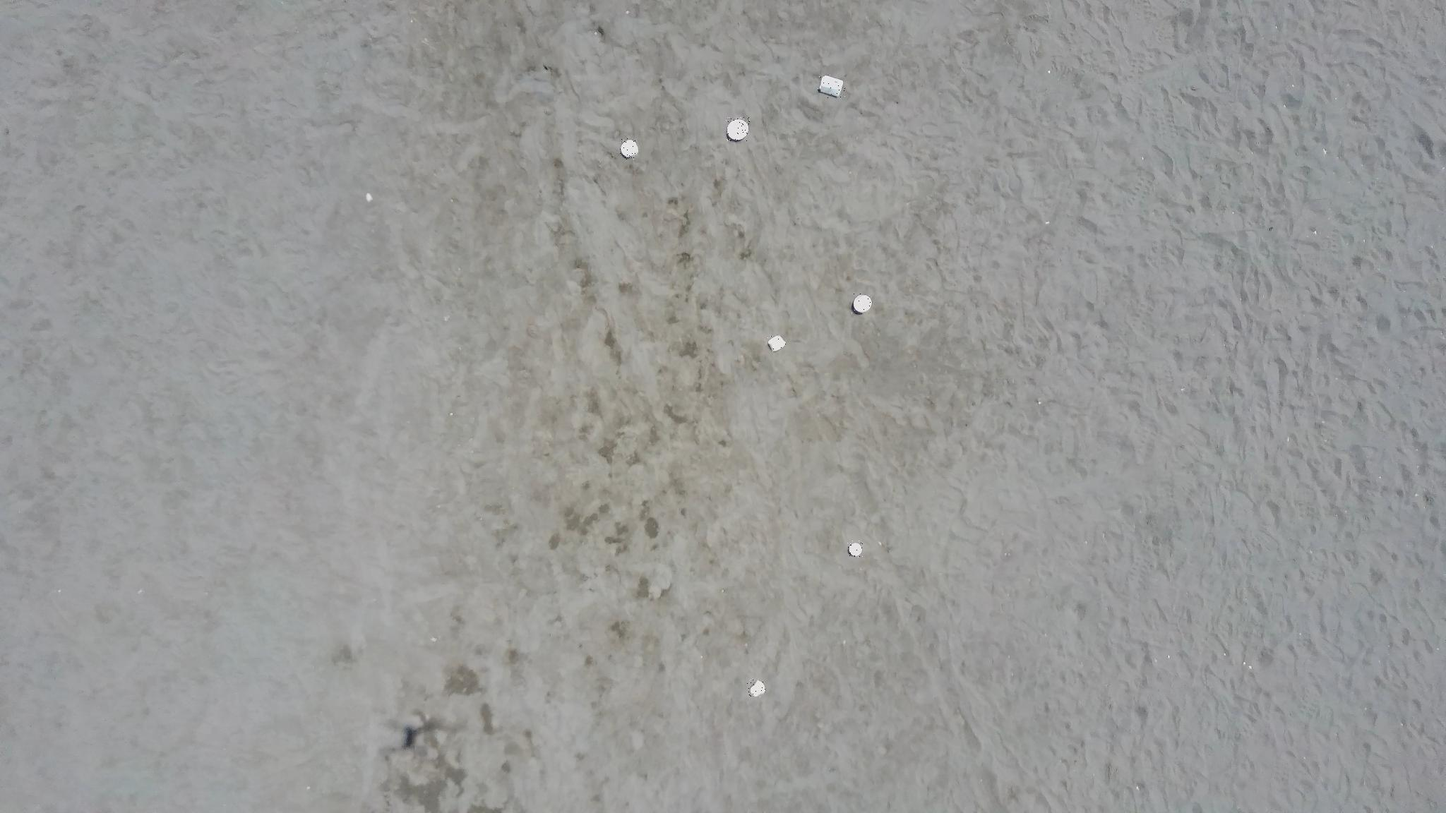Garbage: (820, 74, 843, 96), (726, 118, 748, 140), (852, 294, 871, 313), (619, 140, 638, 157), (748, 680, 765, 697), (767, 335, 786, 350), (848, 542, 861, 557)
